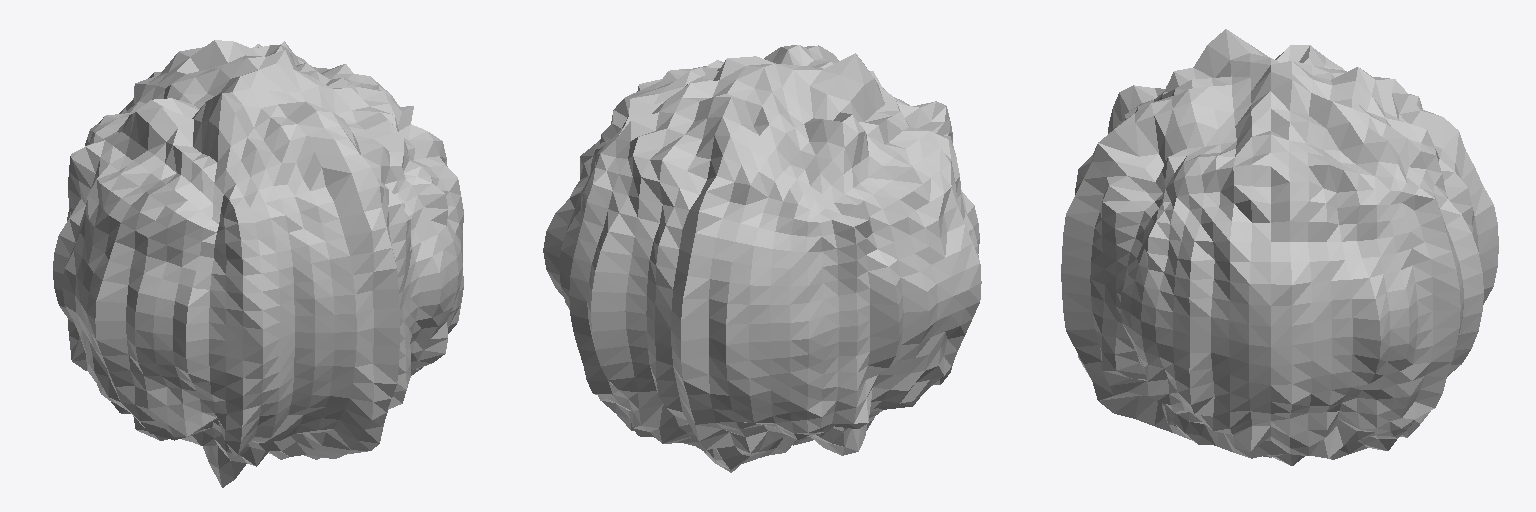
Rendered from asteroid26.obj.
3 views of the same model, side by side, from view 1: azimuth 30°, elevation 25°; view 2: azimuth 150°, elevation 25°; view 3: azimuth 270°, elevation 25° (orthographic).
Parts seen in each view (by area): view 1: Cube_Cube.002; view 2: Cube_Cube.002; view 3: Cube_Cube.002.
Part boxes in pixels (x1,y1,x2,y2): Cube_Cube.002: (53, 40, 463, 487); Cube_Cube.002: (543, 45, 981, 472); Cube_Cube.002: (1061, 29, 1498, 465).
Bounding box in the file's own units: 1.79 × 1.81 × 1.81.